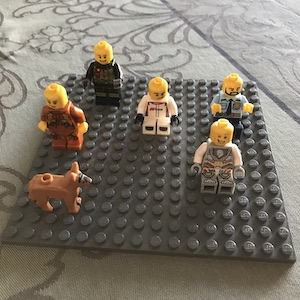Lego: (189, 117, 244, 194), (35, 81, 89, 156), (207, 73, 252, 138), (133, 78, 178, 136), (85, 39, 122, 106)
